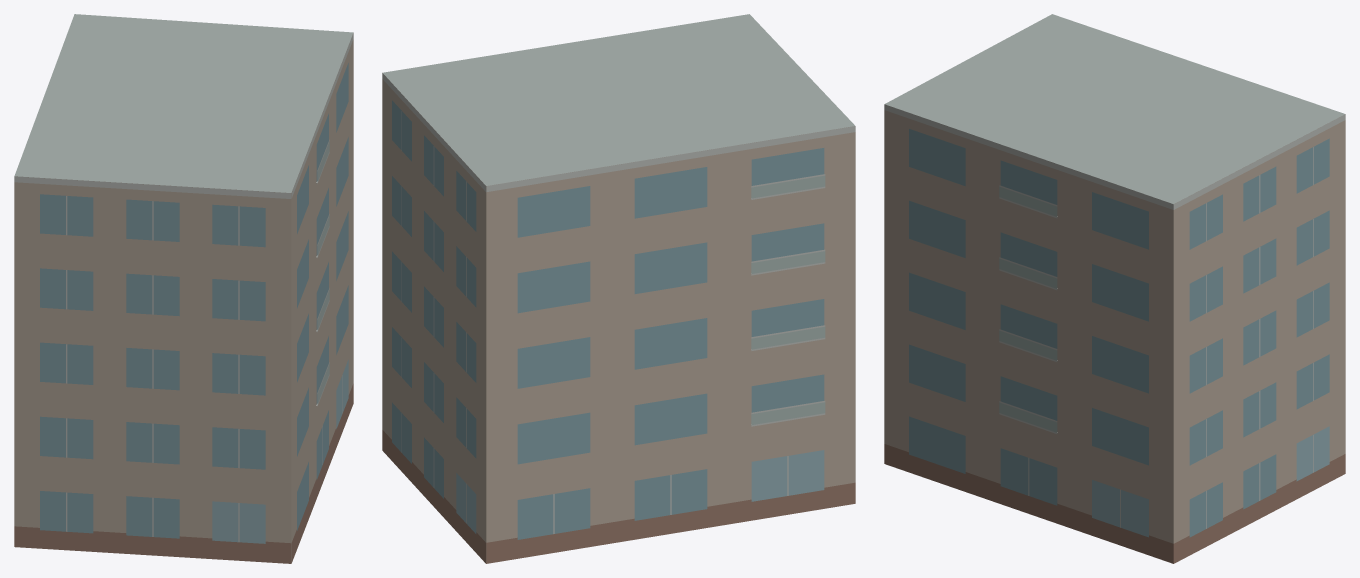
The model's file is survey-upis-32893336.glb.
3 renders of one model, left to right at view 1: azimuth 30°, elevation 25°; view 2: azimuth 150°, elevation 25°; view 3: azimuth 270°, elevation 25°, orthographic. The views are drawn at different scales.
Parts seen in each view (by area): view 1: survey-upis-32893336.tmp; view 2: survey-upis-32893336.tmp; view 3: survey-upis-32893336.tmp.
Boxes of the visible parts, x1=… form: survey-upis-32893336.tmp: x1=14, y1=14, x2=353, y2=563; survey-upis-32893336.tmp: x1=382, y1=14, x2=855, y2=563; survey-upis-32893336.tmp: x1=884, y1=14, x2=1345, y2=563.
Bounding box in the file's own units: 17.02 × 15 × 17.44.
